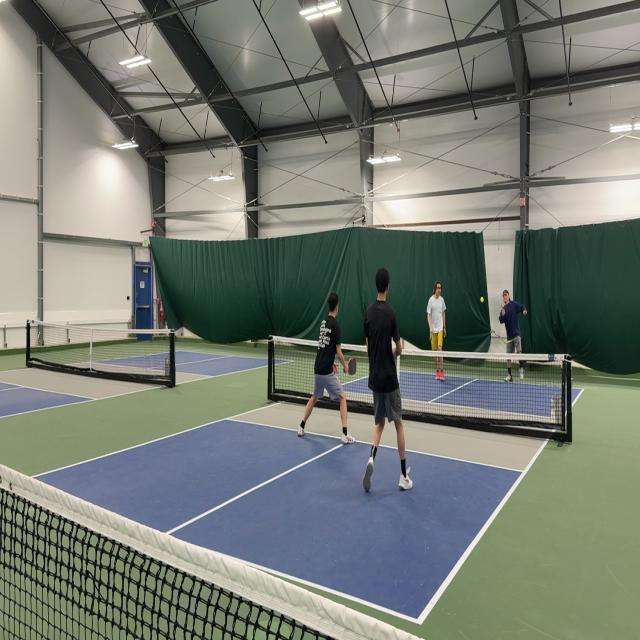ball: (480, 296, 484, 304)
